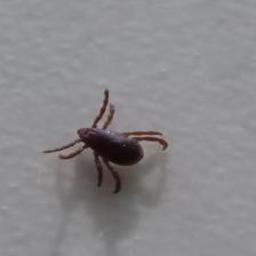Rhipicephalus sanguineus: (43, 87, 167, 195)
